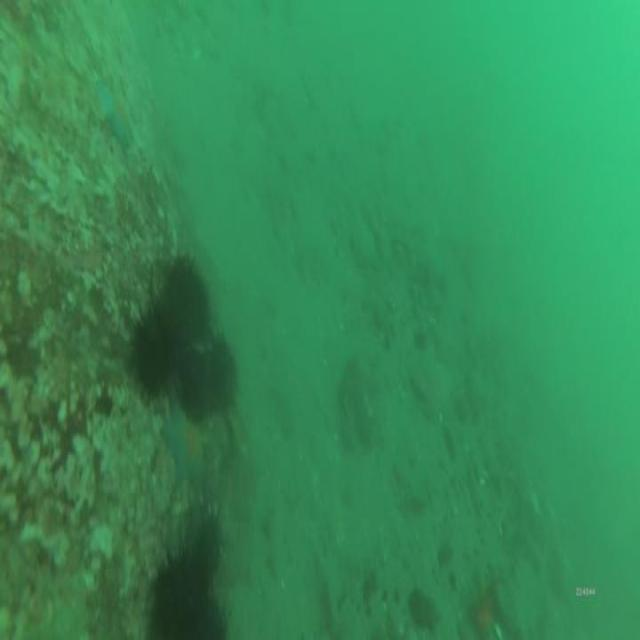echinus: (160, 254, 216, 364), (125, 300, 176, 408), (150, 545, 207, 640), (203, 336, 239, 418), (173, 343, 209, 422), (183, 581, 229, 640), (407, 580, 441, 637)
starfish: (161, 401, 213, 501), (94, 76, 139, 158)
